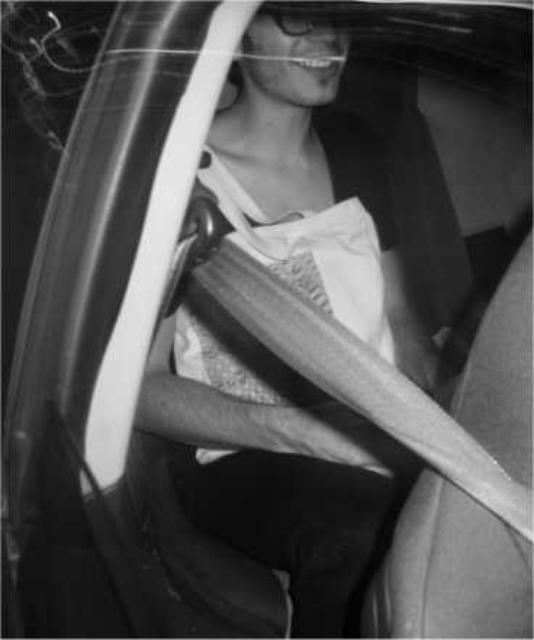Seatbelt: (179, 196, 534, 555)
